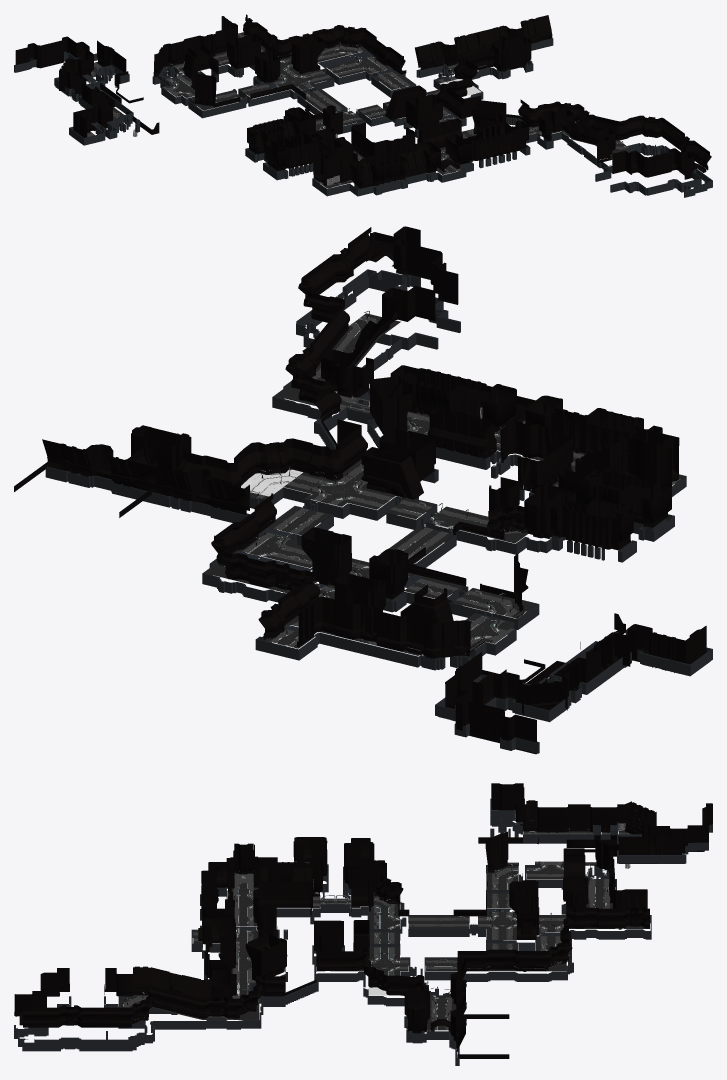
Rendered from far_tron.glb.
The picture shows the model from 3 angles, top to bottom: view 1: azimuth 30°, elevation 25°; view 2: azimuth 150°, elevation 25°; view 3: azimuth 270°, elevation 25°; orthographic projection. The views are drawn at different scales.
Parts seen in each view (by area): view 1: tron; view 2: tron; view 3: tron.
Boxes of the visible parts, box(x1,y1,x2,y2) form: tron: box(14, 14, 712, 197); tron: box(14, 226, 712, 754); tron: box(14, 783, 712, 1065).
Bounding box in the file's own units: 600 × 57.78 × 684.
Materials: 26 (22 with a texture image).
